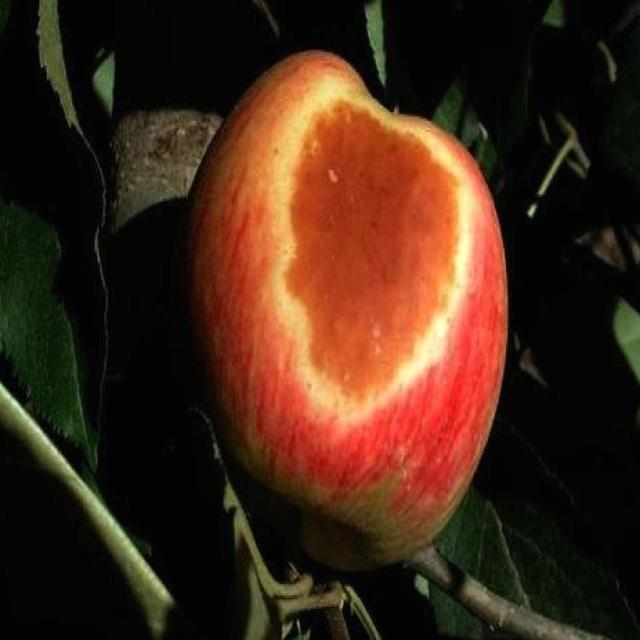Sunscald Fruit: (179, 46, 311, 284)
